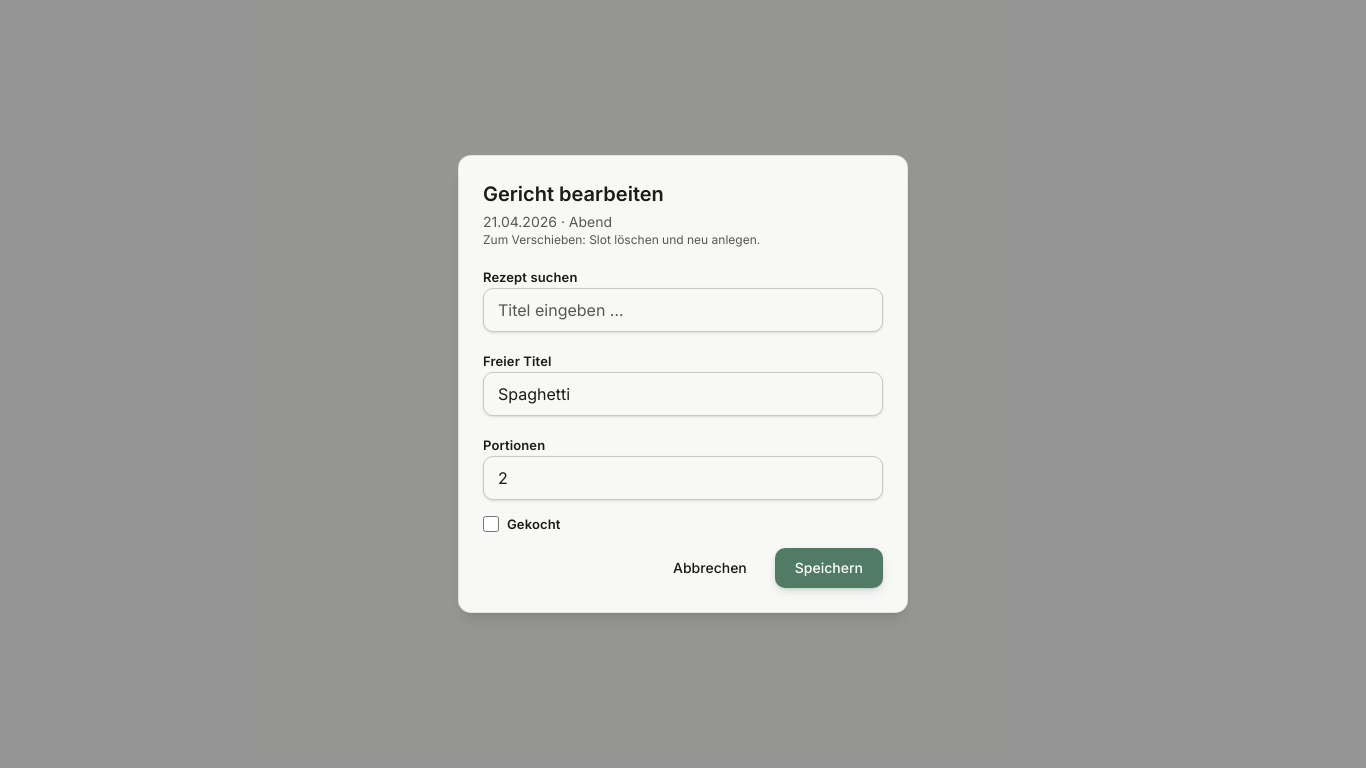
Test case: <EditSlotDialog /> › validates that either a recipe or a label is present
This screenshot has width=1366, height=768.
// Clear the label — with no recipe attached either, submit must fail.
Clear the field labelled "Freier Titel". click: (683, 394)
box: [483,372,883,416]
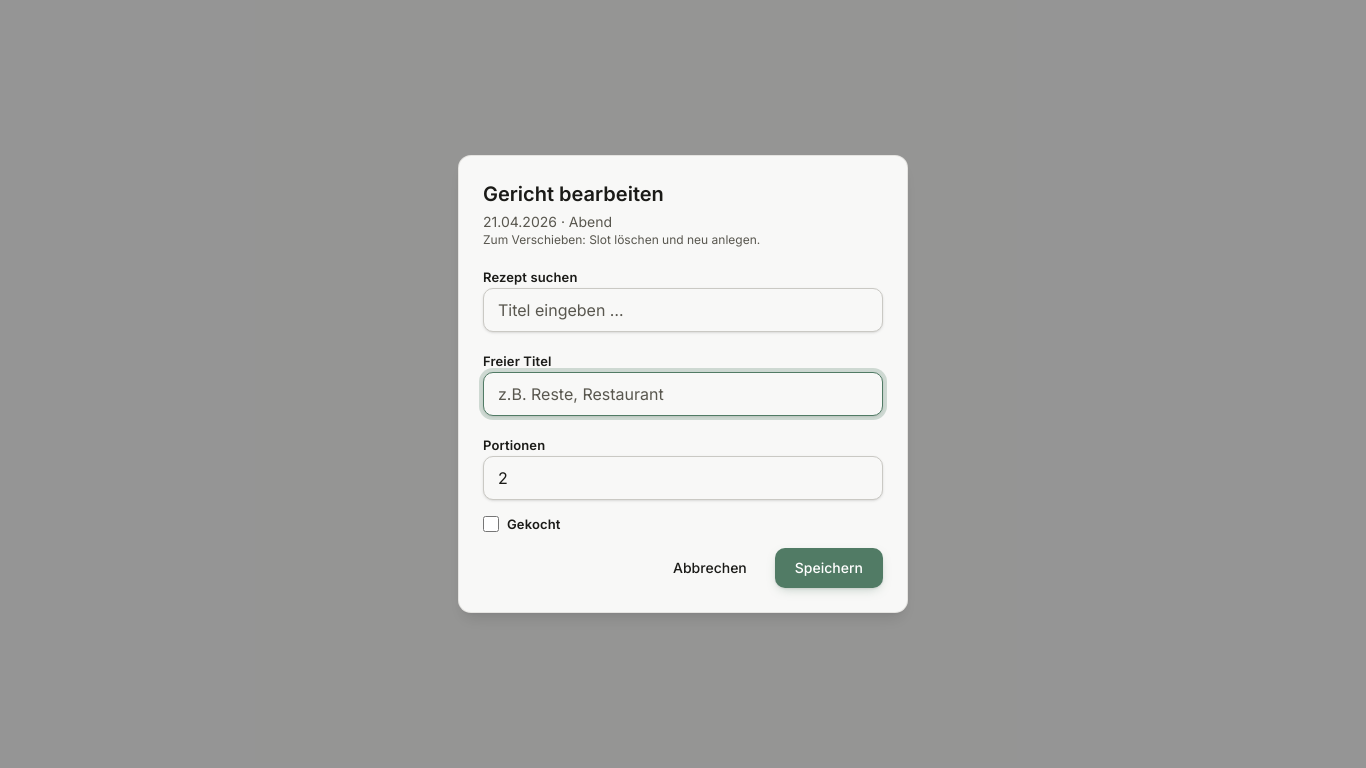
Click the button "Speichern". click: (829, 568)
box: [775,548,883,588]
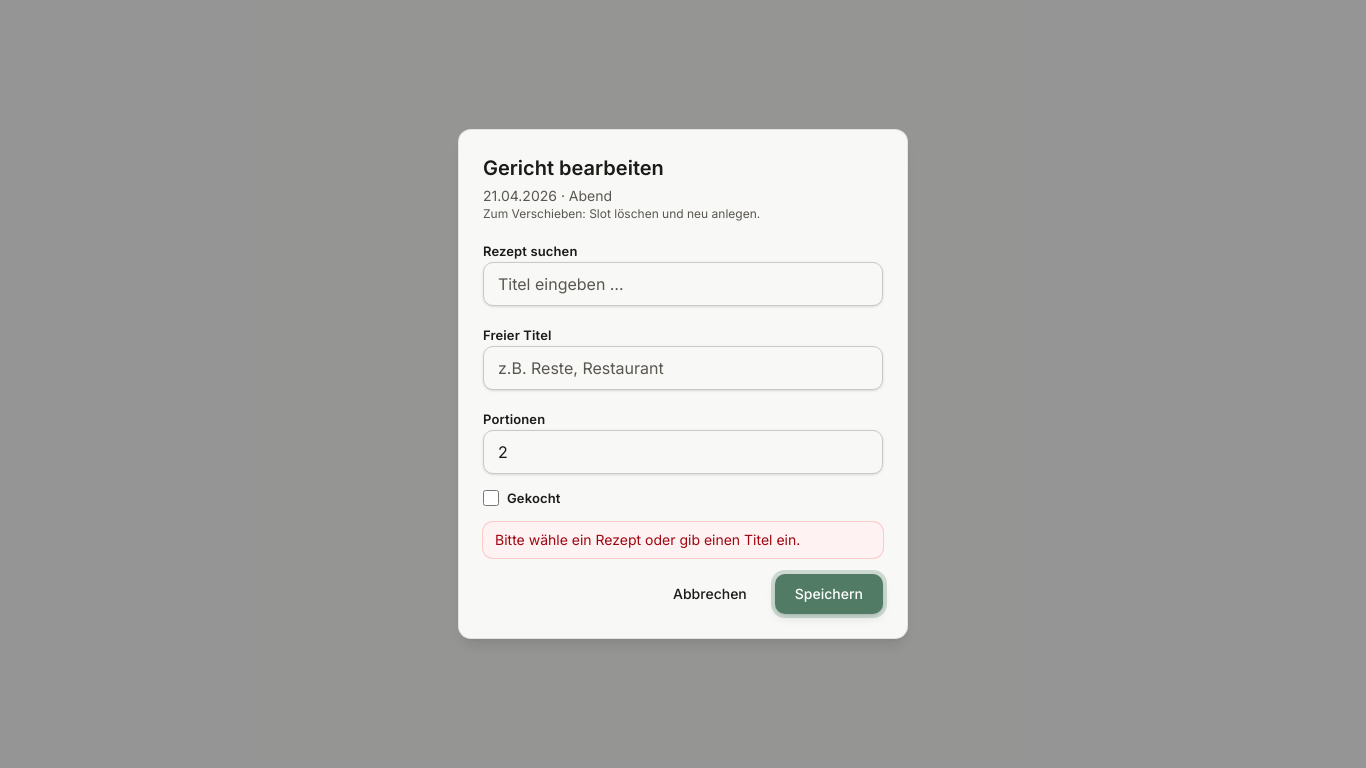
Check: the message shows "Rezept oder gib einen Titel", box [495,531,800,548]
